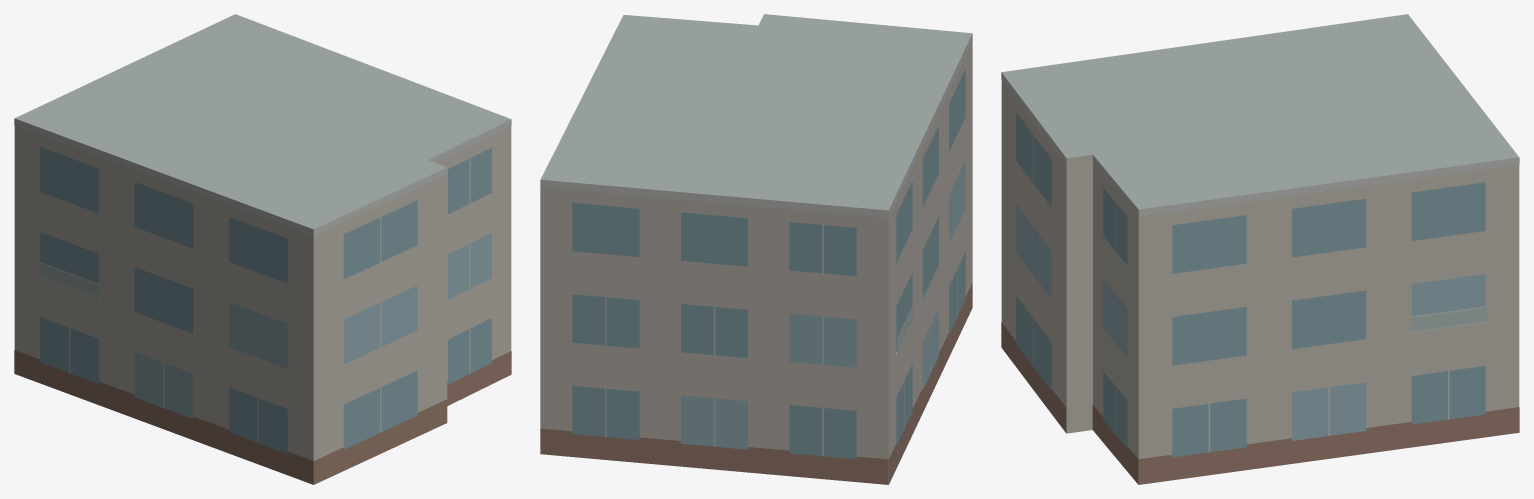
Rendered from survey-upis-32675592.glb.
3 renders of one model, left to right at view 1: azimuth 30°, elevation 25°; view 2: azimuth 150°, elevation 25°; view 3: azimuth 270°, elevation 25°, orthographic. The views are drawn at different scales.
Parts seen in each view (by area): view 1: survey-upis-32675592.tmp; view 2: survey-upis-32675592.tmp; view 3: survey-upis-32675592.tmp.
Part boxes in pixels (<box>): survey-upis-32675592.tmp: <box>14,14,511,484</box>; survey-upis-32675592.tmp: <box>540,14,972,484</box>; survey-upis-32675592.tmp: <box>1001,14,1519,484</box>.
Bounding box in the file's own units: 13.95 × 9.15 × 15.61.
